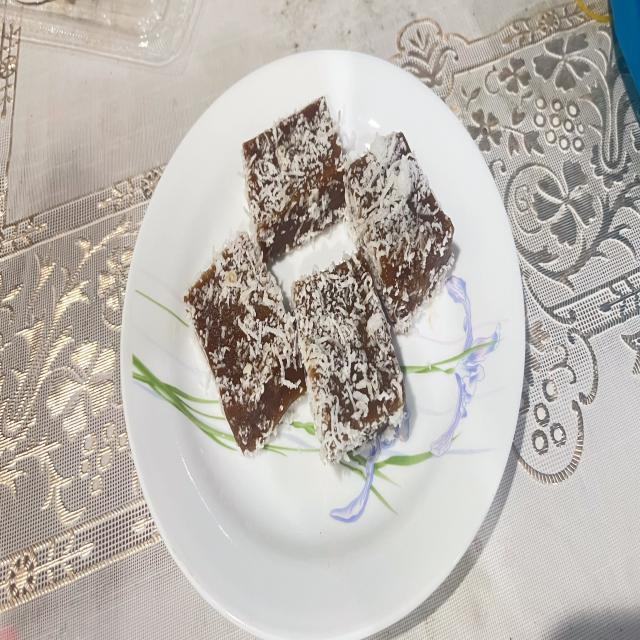kaswi: (185, 233, 306, 453), (291, 251, 405, 464), (344, 133, 454, 331), (242, 98, 345, 262)
